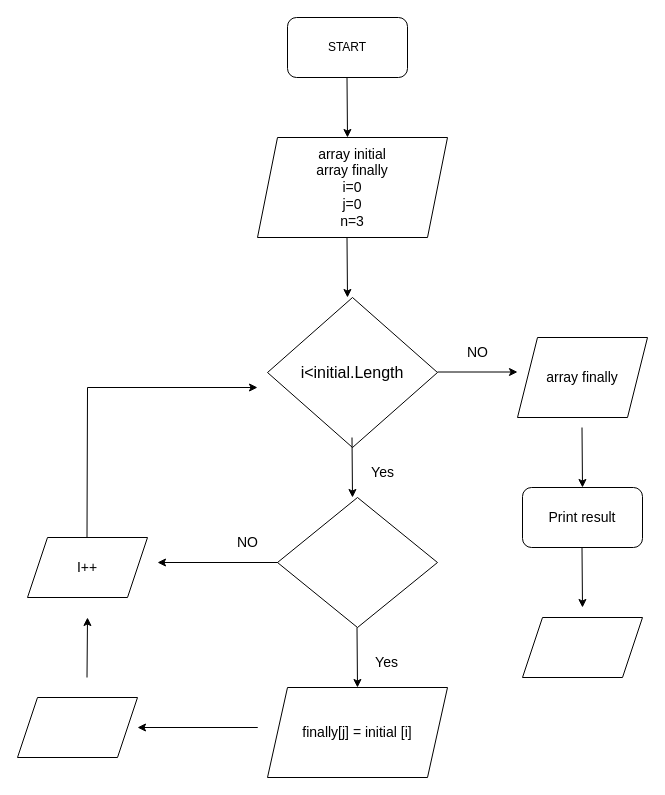
Some shapes in this 665 by 795 pixel diagram are drawn without their labels. The centre of each missing label's shape, as x and y in pixels:
"END" goes at pixel 582 647.
"initial[I]<=n" goes at pixel 357 562.
"J++" goes at pixel 77 727.
